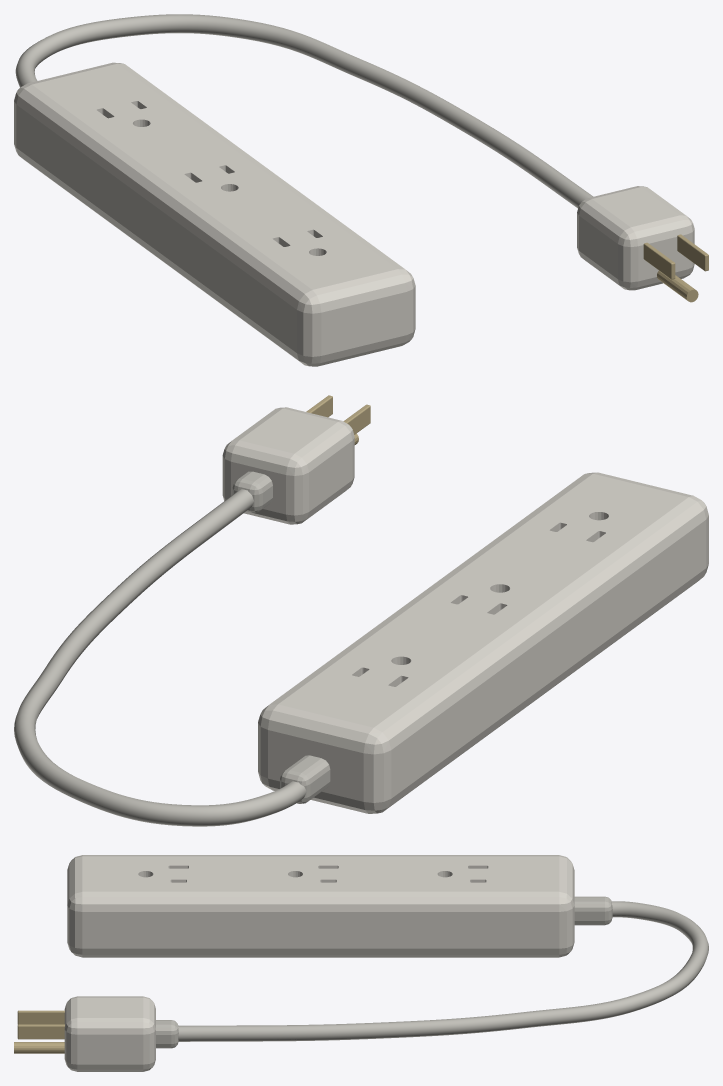
The model's file is EASY-B004.glb.
The picture shows the model from 3 angles, top to bottom: view 1: azimuth 30°, elevation 25°; view 2: azimuth 150°, elevation 25°; view 3: azimuth 270°, elevation 25°; orthographic projection. The views are drawn at different scales.
Visible parts, largest first — view 1: Three_socket_body, Short_cord, Three_pin_plug_body, Flat_plug_blade, Flat_plug_blade.001, Round_ground_pin; view 2: Three_socket_body, Short_cord, Three_pin_plug_body, Body_strain_relief, Plug_strain_relief; view 3: Three_socket_body, Short_cord, Three_pin_plug_body, Body_strain_relief, Flat_plug_blade.001, Flat_plug_blade, Plug_strain_relief, Round_ground_pin.
Part boxes in pixels (left/top/right/bottom): Three_socket_body: left=14, top=62, right=415, bottom=366; Short_cord: left=15, top=14, right=593, bottom=208; Three_pin_plug_body: left=577, top=186, right=694, bottom=290; Flat_plug_blade: left=643, top=242, right=675, bottom=279; Flat_plug_blade.001: left=677, top=234, right=708, bottom=271; Round_ground_pin: left=657, top=270, right=698, bottom=302; Three_socket_body: left=258, top=472, right=708, bottom=813; Short_cord: left=14, top=489, right=306, bottom=826; Three_pin_plug_body: left=222, top=407, right=354, bottom=524; Body_strain_relief: left=280, top=755, right=330, bottom=803; Plug_strain_relief: left=232, top=471, right=272, bottom=512; Three_socket_body: left=67, top=855, right=574, bottom=957; Short_cord: left=178, top=901, right=708, bottom=1041; Three_pin_plug_body: left=64, top=996, right=155, bottom=1071; Body_strain_relief: left=574, top=896, right=612, bottom=925; Flat_plug_blade.001: left=17, top=1024, right=64, bottom=1039; Flat_plug_blade: left=17, top=1010, right=64, bottom=1024; Plug_strain_relief: left=156, top=1020, right=178, bottom=1048; Round_ground_pin: left=14, top=1042, right=64, bottom=1053.
Size of the model in its own units: 0.152 by 0.028 by 0.274.
